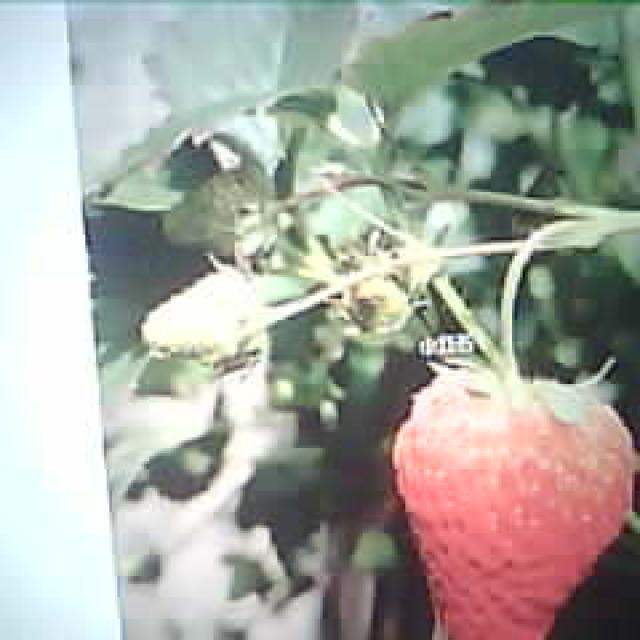strawberry: (391, 377, 637, 640)
